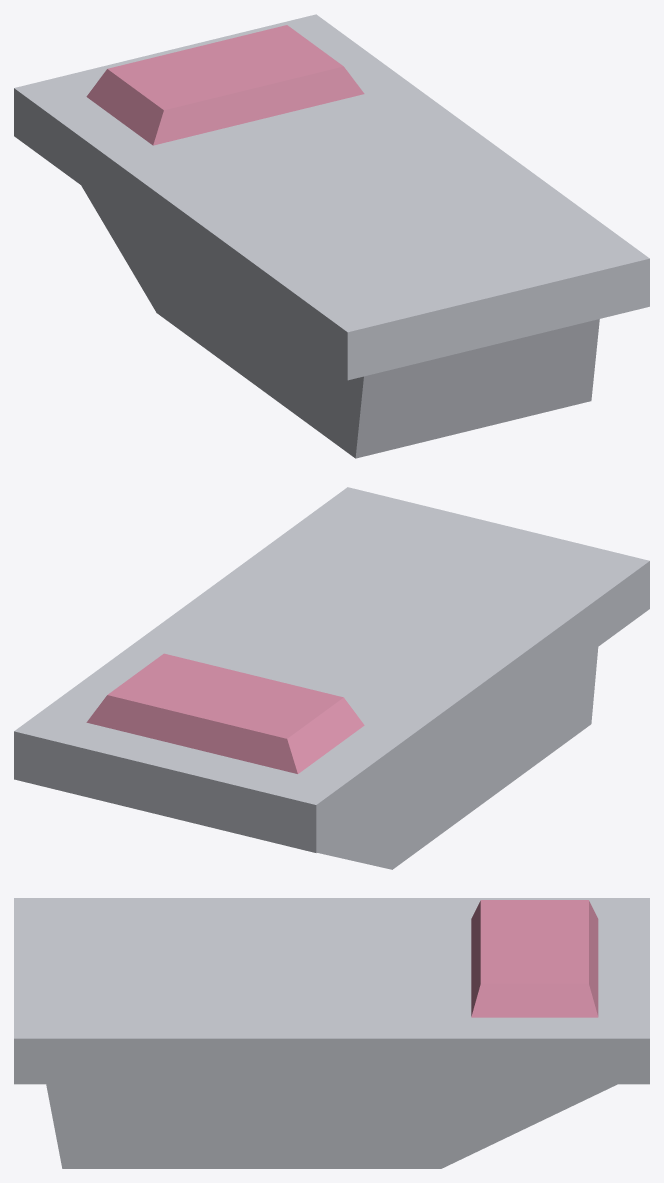
3 renders of one model, top to bottom at view 1: azimuth 30°, elevation 25°; view 2: azimuth 150°, elevation 25°; view 3: azimuth 270°, elevation 25°, orthographic. The views are drawn at different scales.
Visible parts, largest first — view 1: object_066; view 2: object_066; view 3: object_066.
Boxes of the visible parts, bbox=[...] form: object_066: bbox=[14, 14, 649, 458]; object_066: bbox=[14, 487, 649, 869]; object_066: bbox=[14, 898, 649, 1168].
Bounding box in the file's own units: 0.455 × 0.26 × 0.87.
